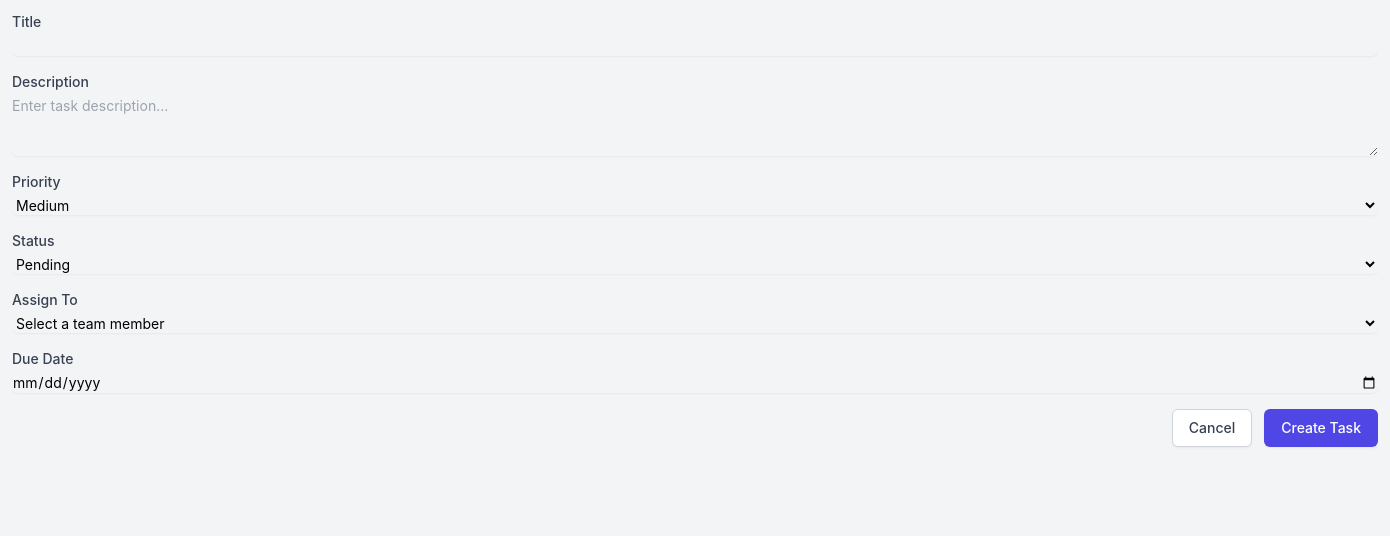
Test: TaskForm › shows validation errors for required fields
Click the button "Create Task" at coordinates (1321, 428), box [1264, 409, 1378, 447]
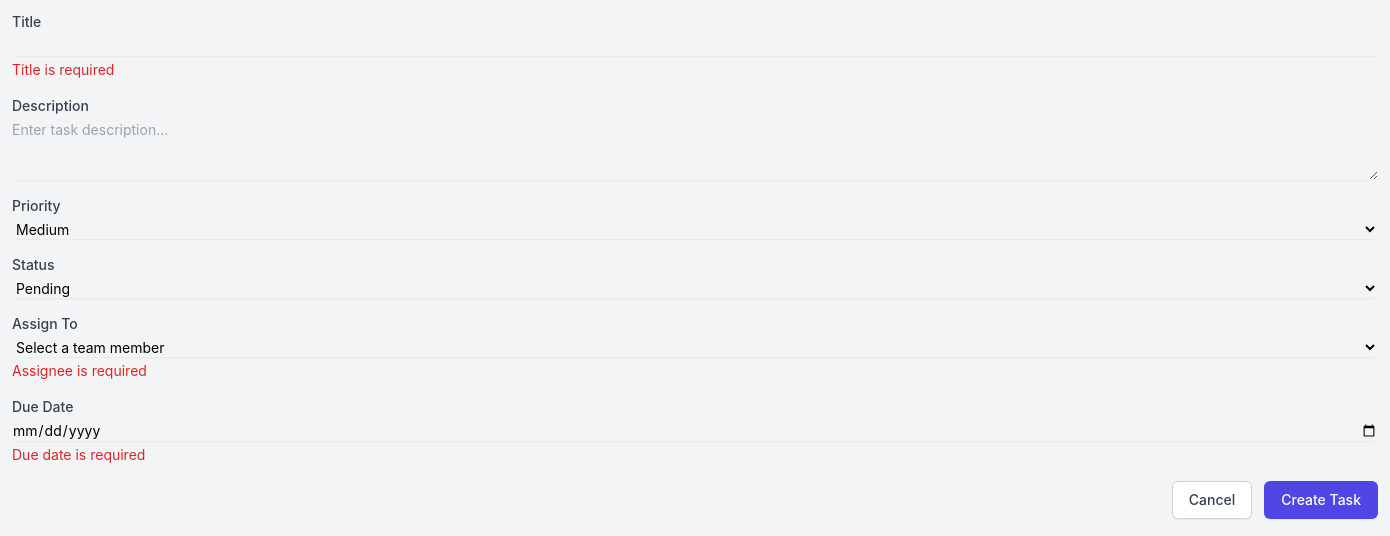
expect the text "Title is required" is shown: met, box [12, 61, 114, 78]
expect the text "Assignee is required" is shown: met, box [12, 362, 147, 379]
expect the text "Due date is required" is shown: met, box [12, 446, 145, 463]
